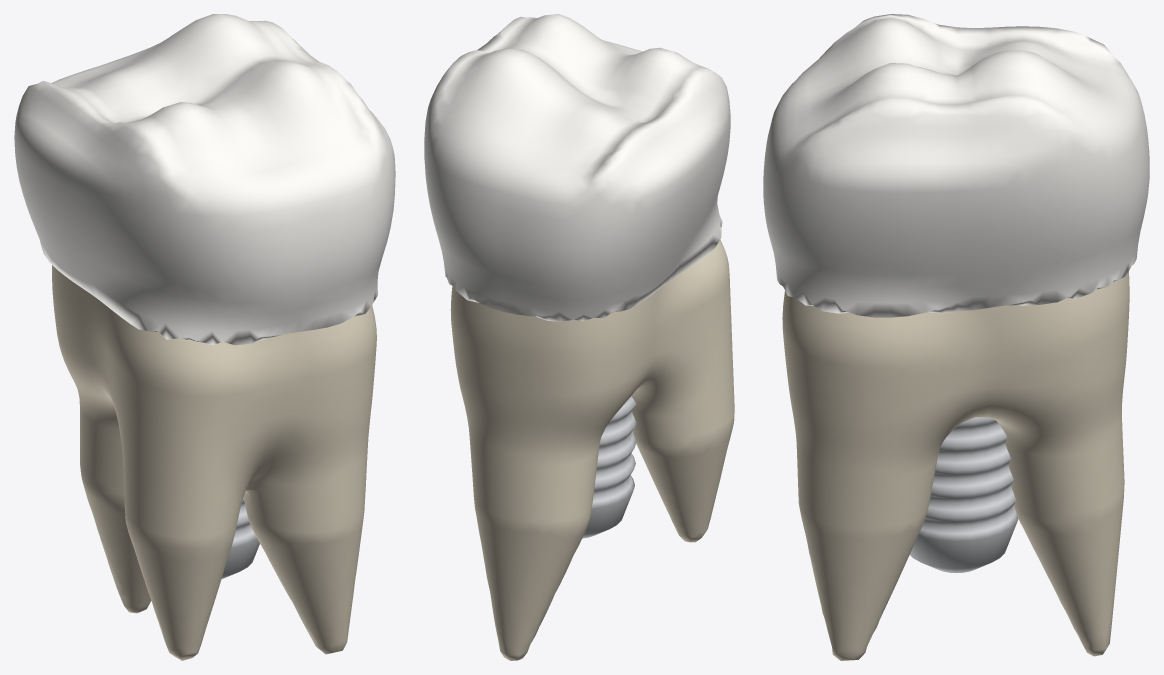
3 views of the same model, side by side, from view 1: azimuth 30°, elevation 25°; view 2: azimuth 150°, elevation 25°; view 3: azimuth 270°, elevation 25° (orthographic). The views are drawn at different scales.
Visible parts, largest first — view 1: crown, root, implant; view 2: crown, root, implant; view 3: crown, root, implant.
Part boxes in pixels (x1,y1,x2,y2): crown: (14, 14, 395, 345); root: (52, 265, 376, 660); implant: (221, 497, 259, 578); crown: (424, 14, 730, 321); root: (450, 240, 734, 660); implant: (582, 396, 636, 538); crown: (763, 14, 1149, 317); root: (782, 272, 1129, 660); implant: (909, 417, 1018, 573).
Size of the model in its own units: 9.92 by 20.83 by 11.69.
